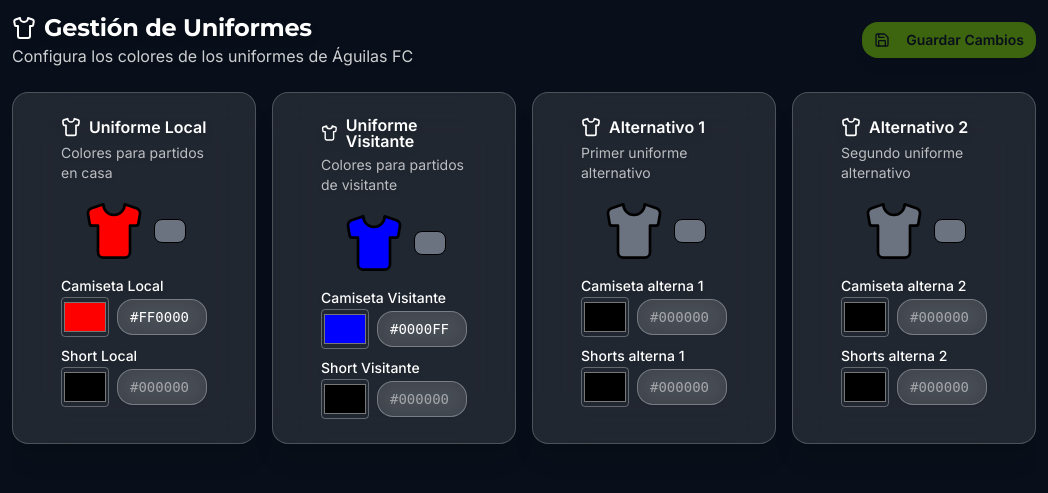
TeamUniformsPage › shows the 422 hex error on the field and keeps the typed value
Step 1. Replace the text in the field named "Camiseta Local (hex)" with "rojo" → (162, 317), box [117, 299, 207, 335]
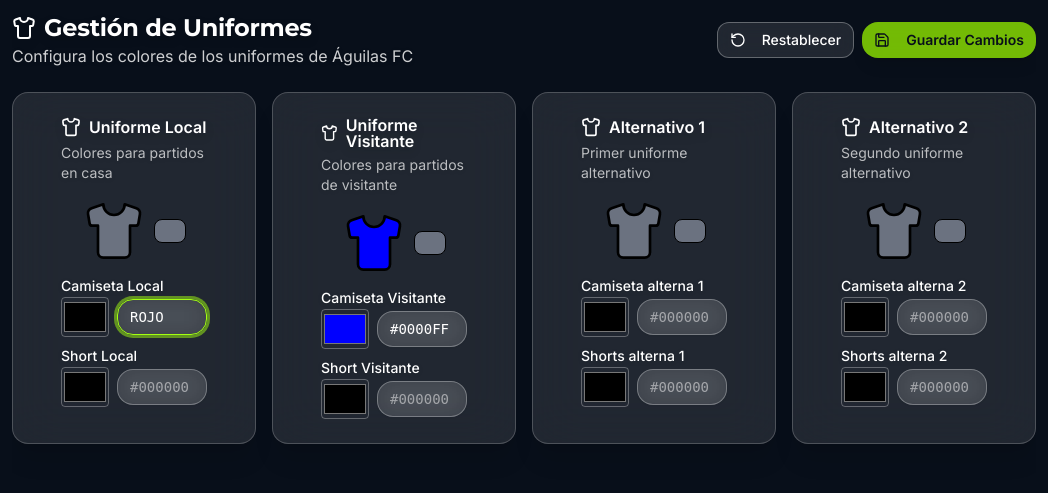
Step 2. Click the button "Guardar Cambios" → (949, 40), box [862, 22, 1036, 58]
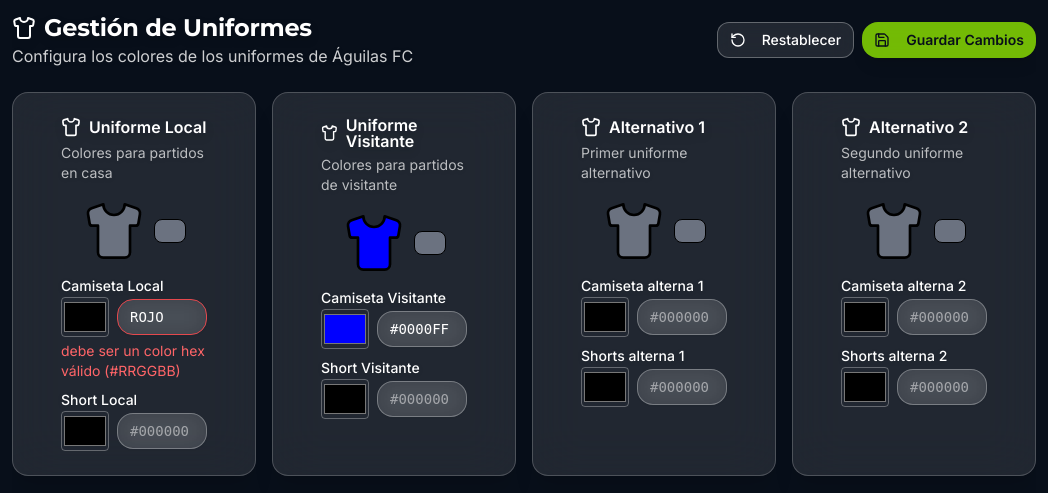
Check: the text "debe ser un color hex válido (#RRGGBB)" is shown, box [61, 341, 207, 381]
